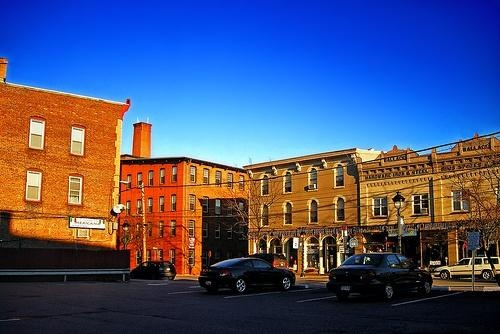car: (326, 250, 438, 307), (197, 256, 301, 298), (435, 255, 500, 283), (131, 258, 179, 285)
